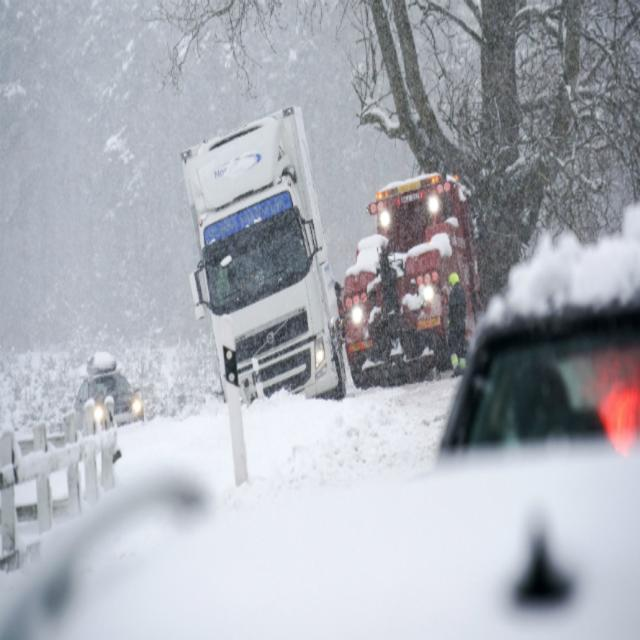bus: (186, 110, 344, 416), (337, 172, 477, 392)
car: (73, 369, 144, 432)
